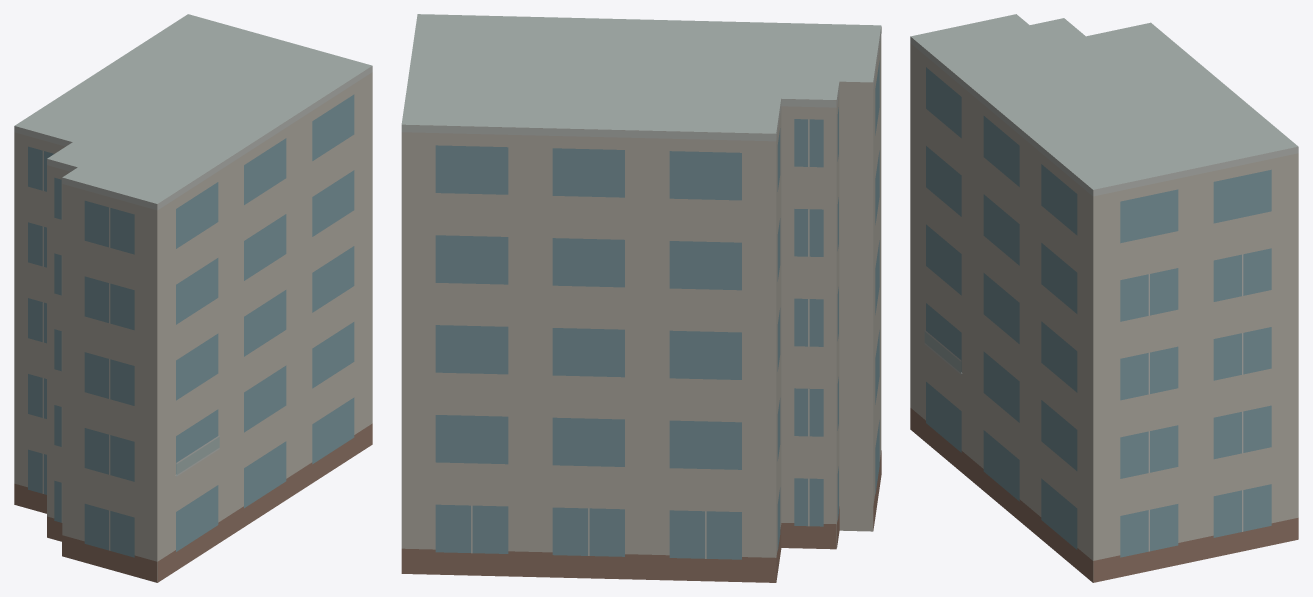
File: survey-upis-32664553.glb
3 views of the same model, side by side, from view 1: azimuth 30°, elevation 25°; view 2: azimuth 150°, elevation 25°; view 3: azimuth 270°, elevation 25° (orthographic). The views are drawn at different scales.
Parts seen in each view (by area): view 1: survey-upis-32664553.tmp; view 2: survey-upis-32664553.tmp; view 3: survey-upis-32664553.tmp.
Part boxes in pixels (left/top/right/bottom): survey-upis-32664553.tmp: left=14, top=14, right=372, bottom=582; survey-upis-32664553.tmp: left=401, top=14, right=881, bottom=582; survey-upis-32664553.tmp: left=910, top=14, right=1298, bottom=582.
Size of the model in its own units: 13.93 by 14.5 by 12.99.
